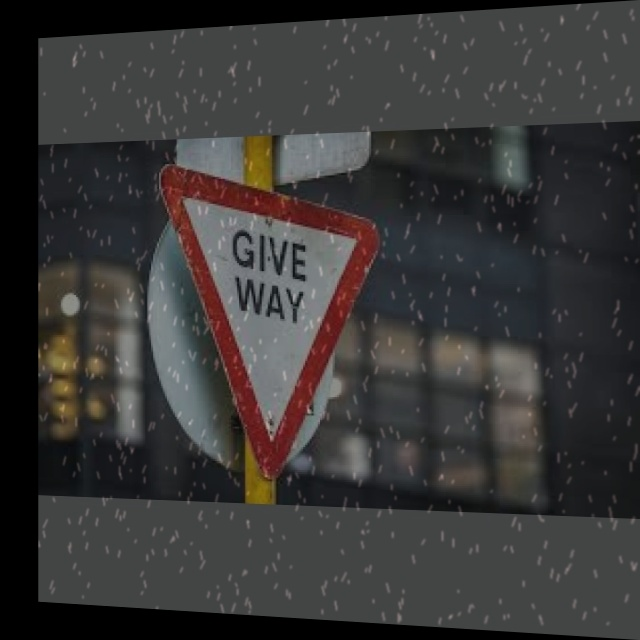Give_Way: (166, 160, 378, 484)
